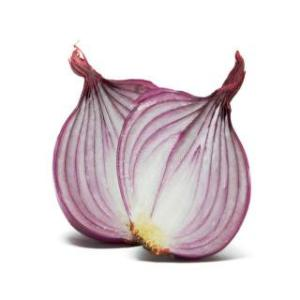onion: (119, 58, 251, 264), (51, 43, 177, 250)
